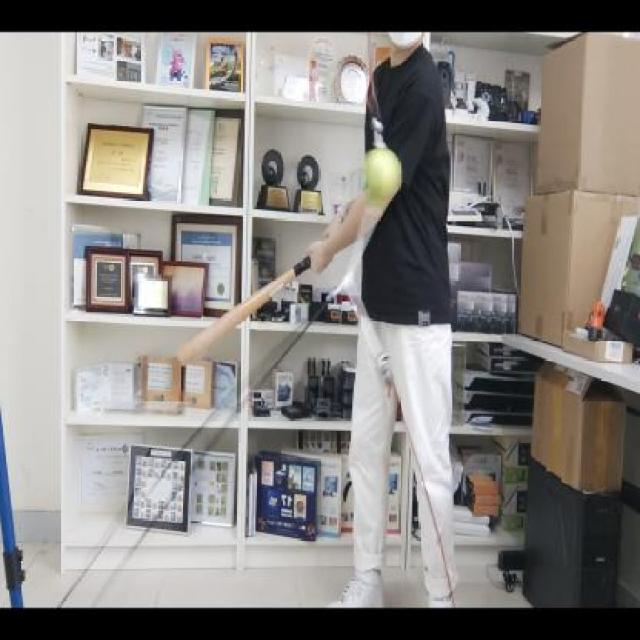baseball: (364, 146, 404, 202)
